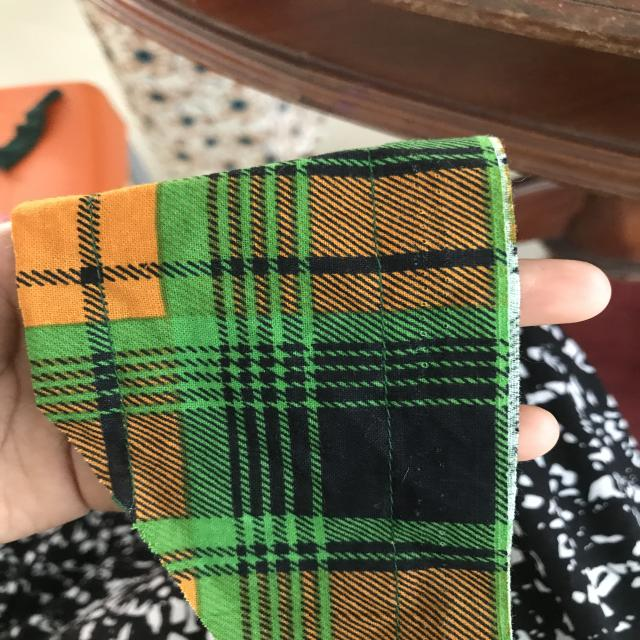good: (382, 415, 402, 501)
